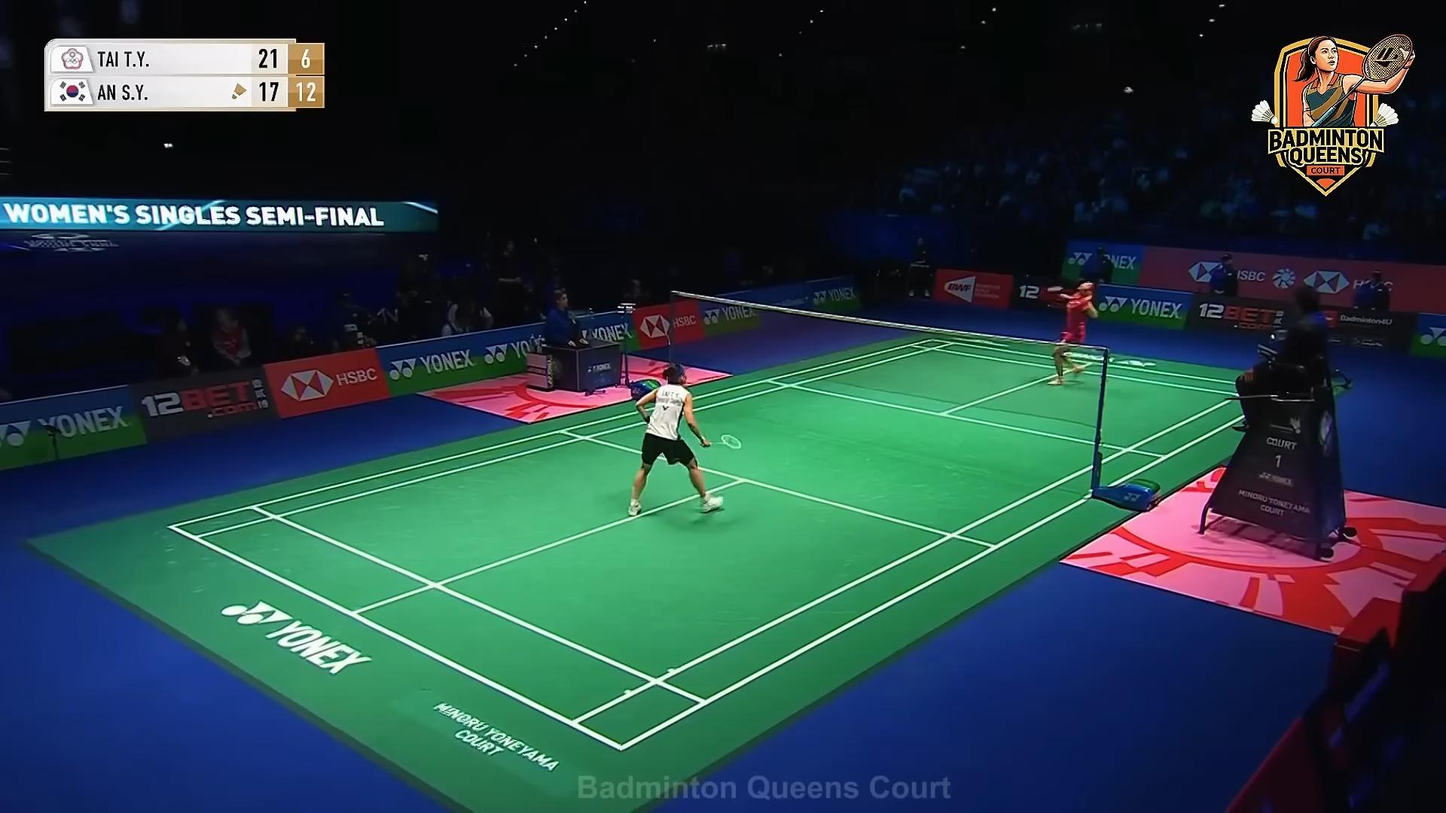player: (627, 361, 725, 516), (1045, 279, 1099, 388)
